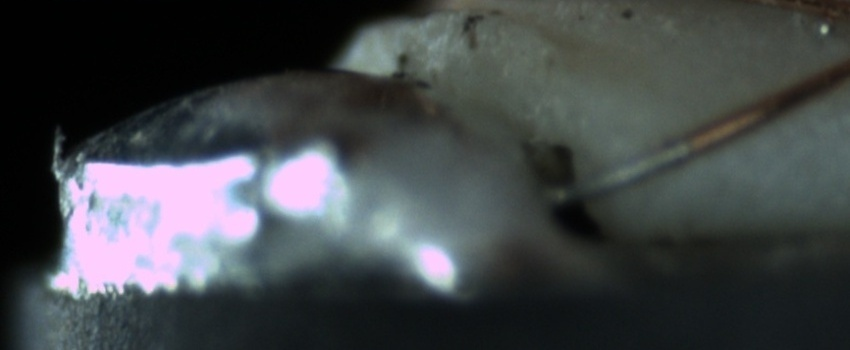TS: (550, 138, 690, 206)
